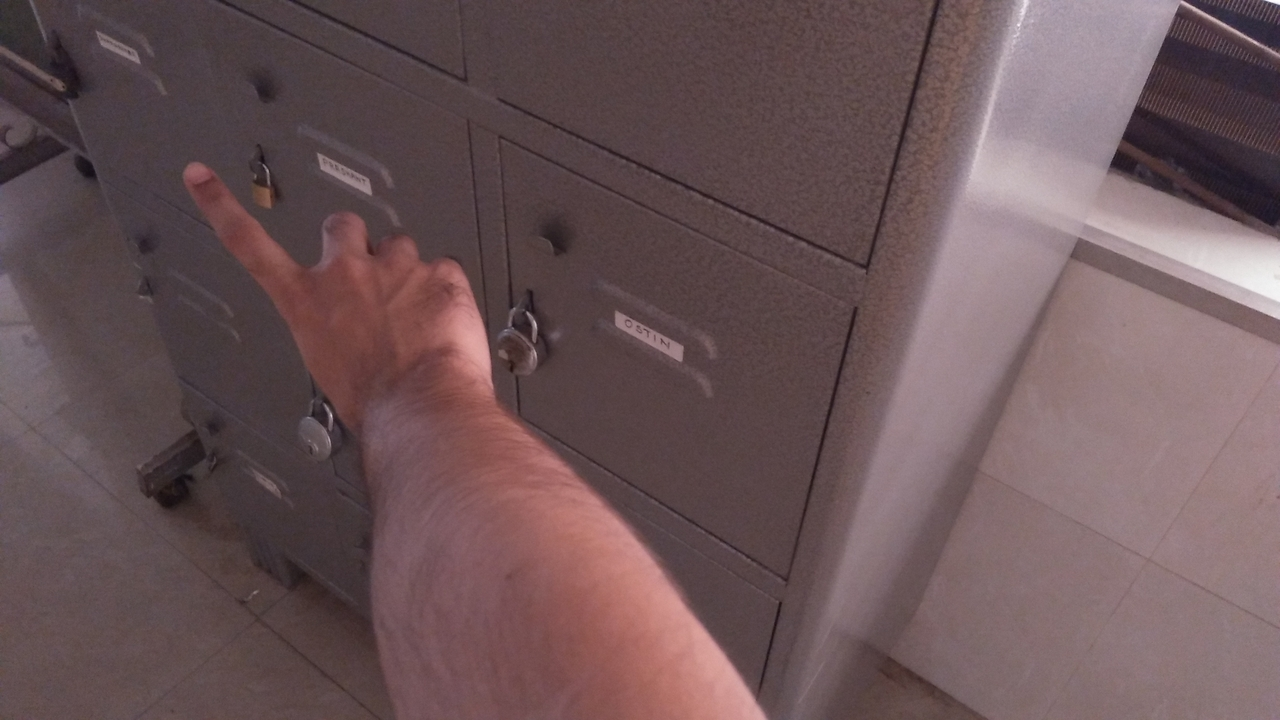fingertip: (164, 152, 226, 200)
